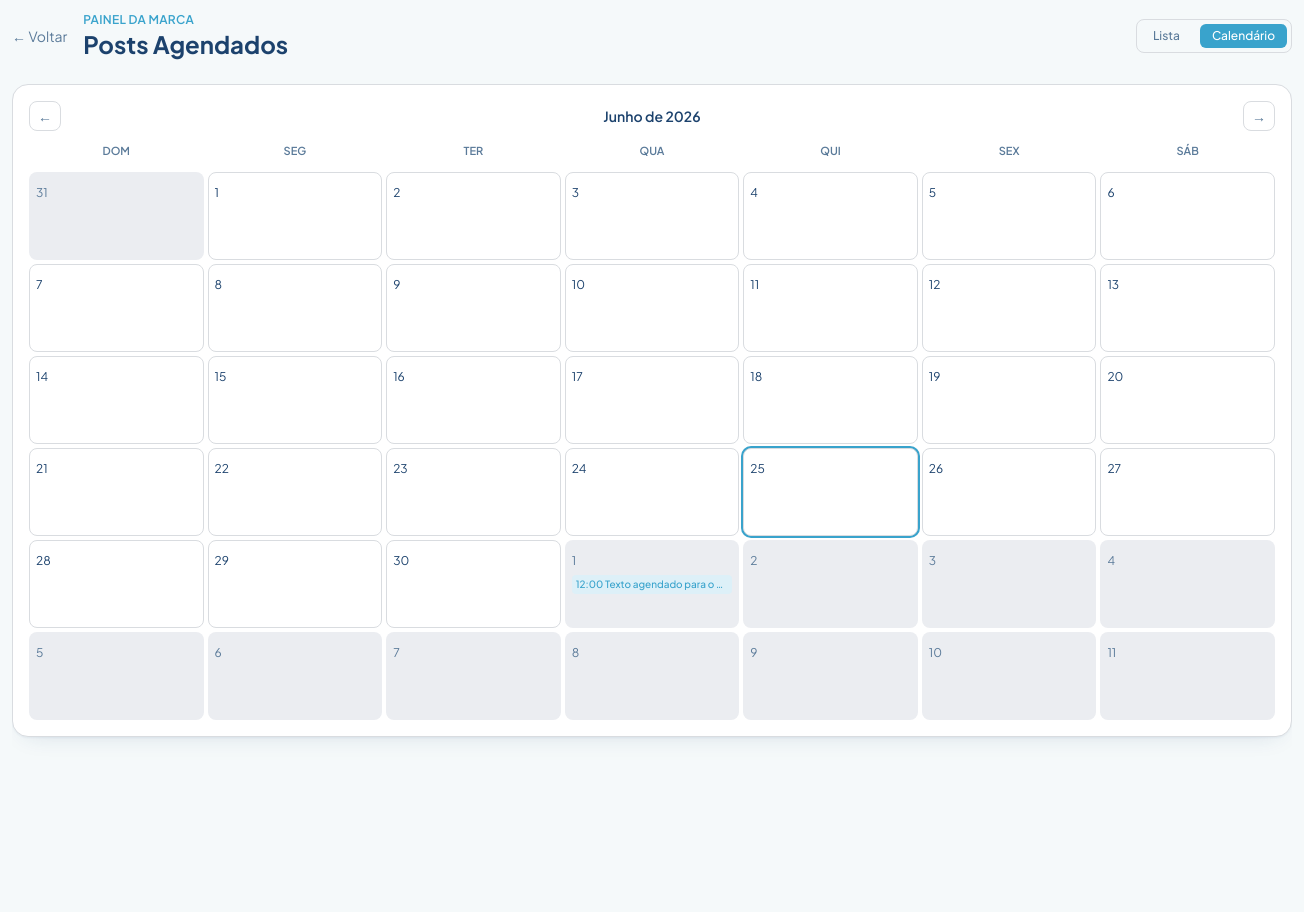
Test: ScheduledPostsPage › impede salvar quando a data de publicação está no passado
The image size is (1304, 912).
Click the button "Lista": (1166, 36) [1141, 24, 1192, 48]
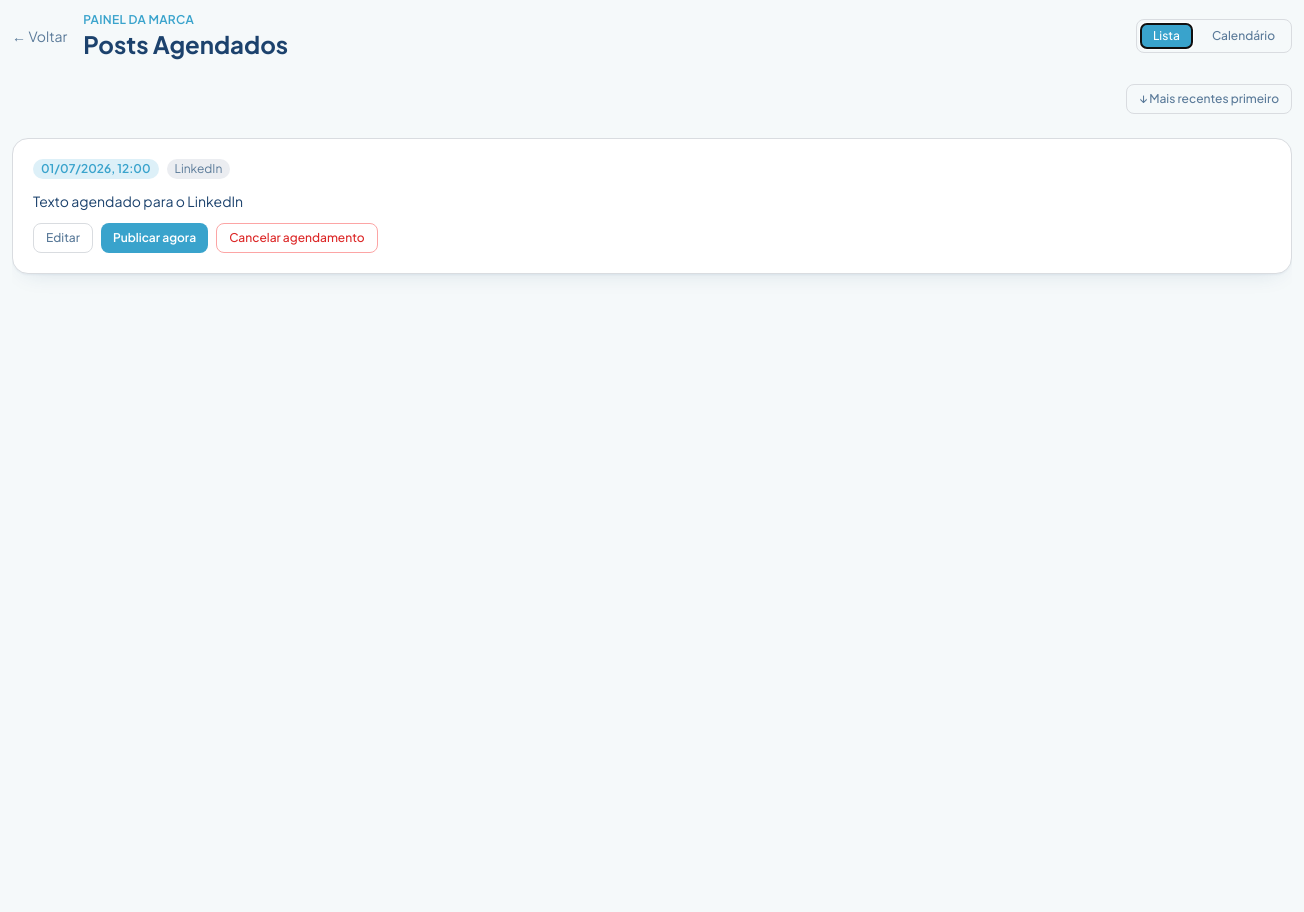
Expected: the text "Texto agendado para o LinkedIn" is shown, [33, 192, 243, 210]
Click the button "Editar": (63, 238) [33, 223, 93, 253]
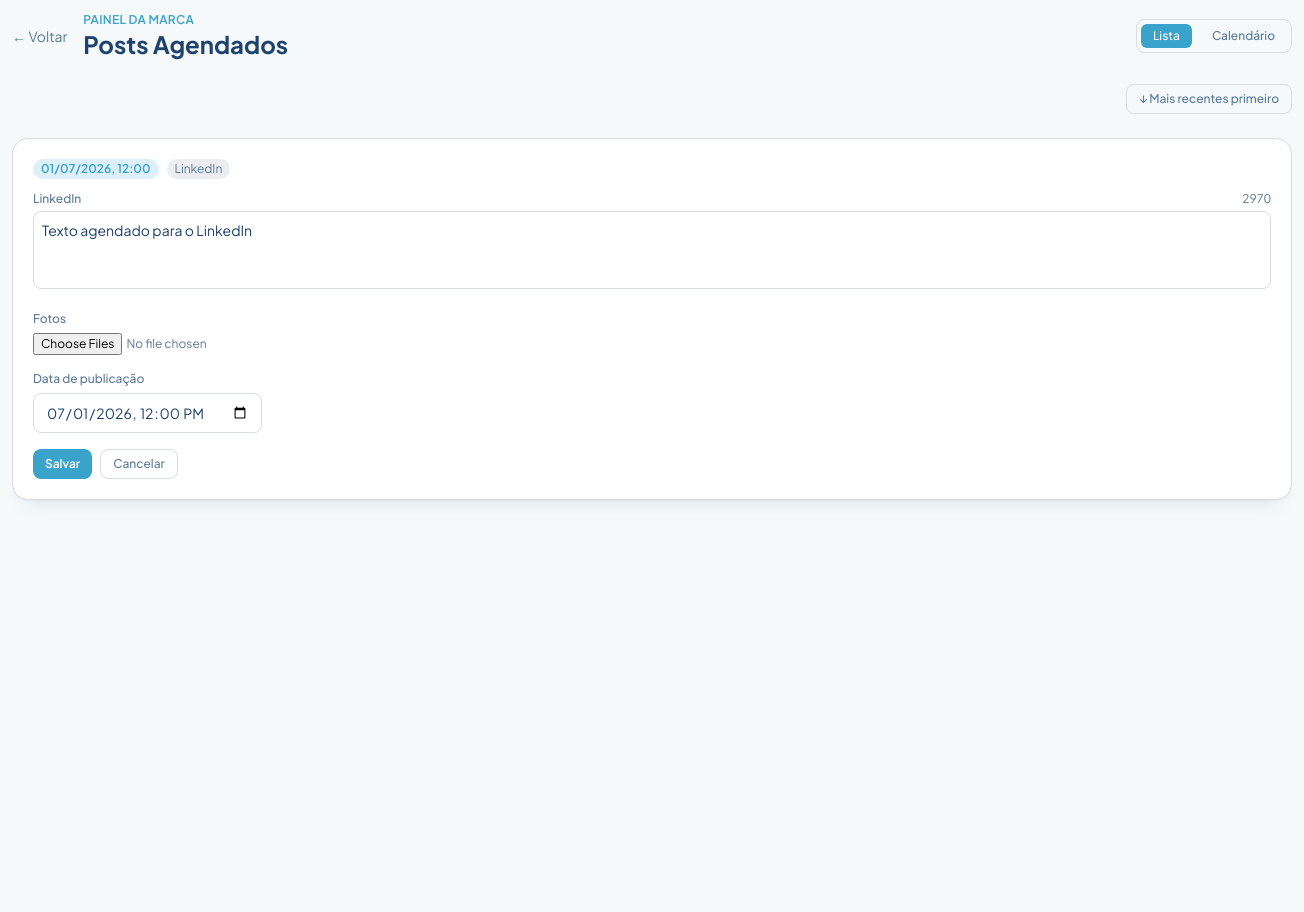
Clear the field labelled "Data de publicação": (148, 413) [33, 393, 262, 433]
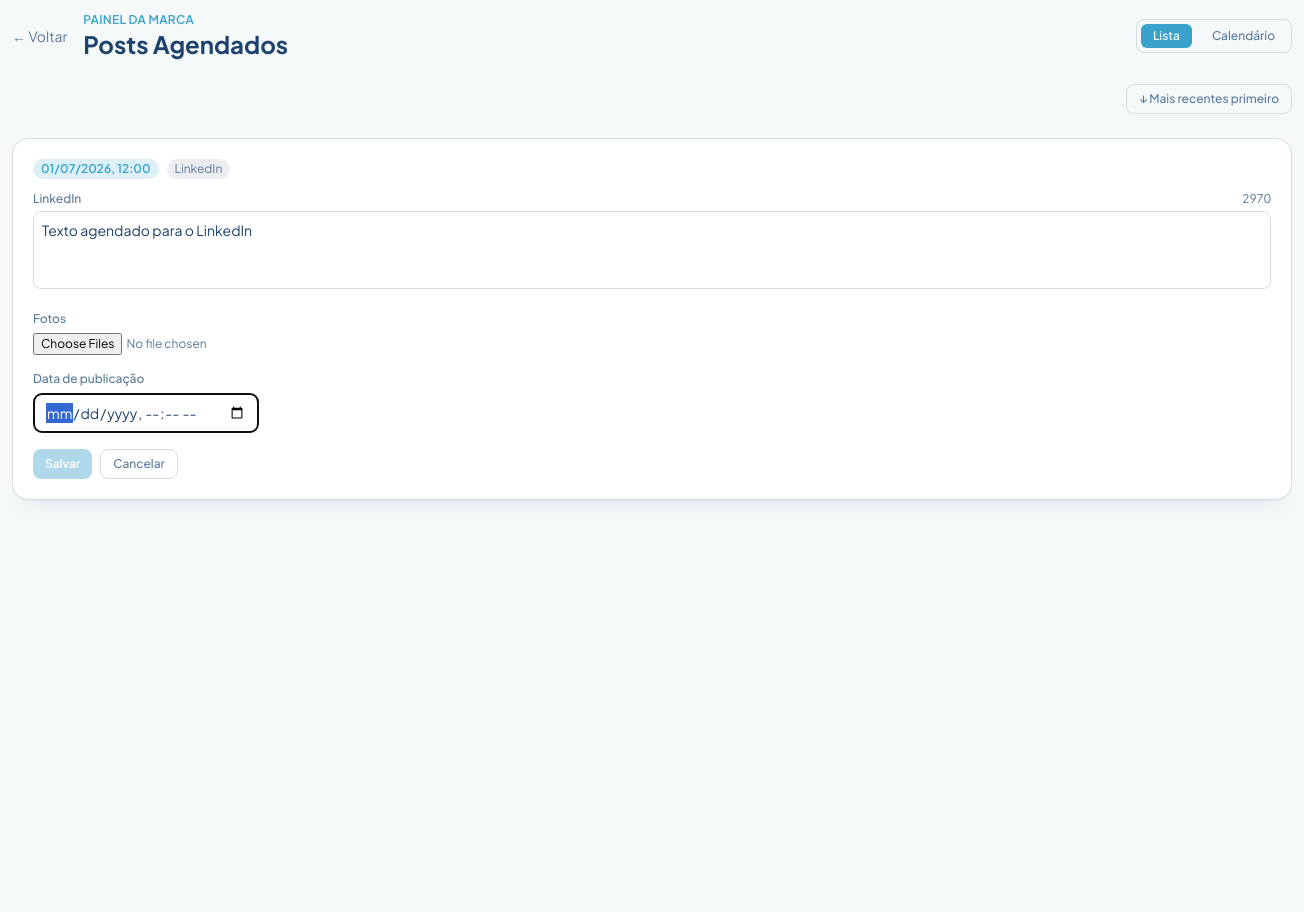
In the field labelled "Data de publicação": (146, 413) [33, 393, 259, 433], type "2020-01-01T09:30"
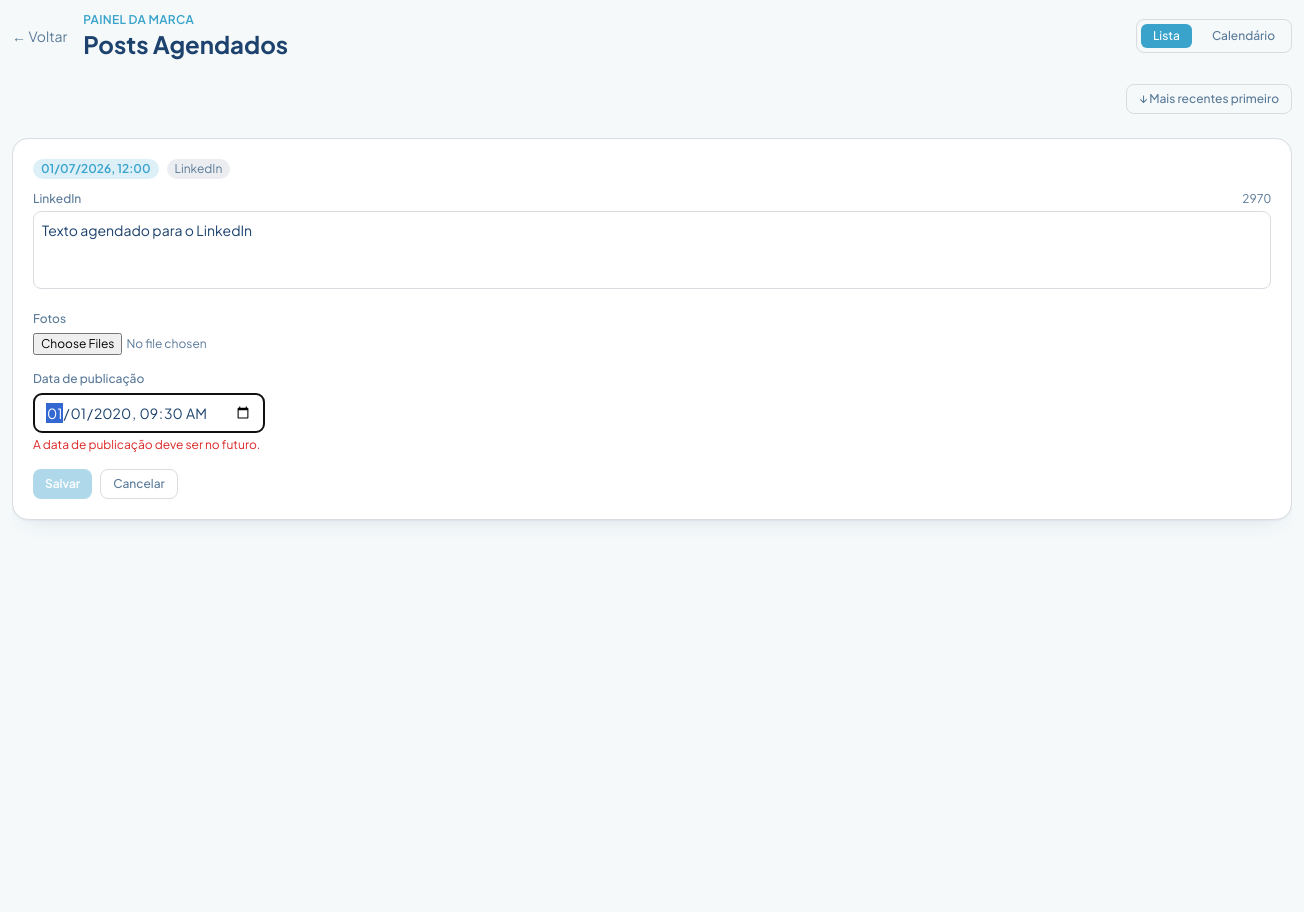
Result: the button "Salvar" is disabled at [33, 469, 92, 499]
Result: the text "A data de publicação deve ser no futuro." is shown at [33, 437, 260, 452]
